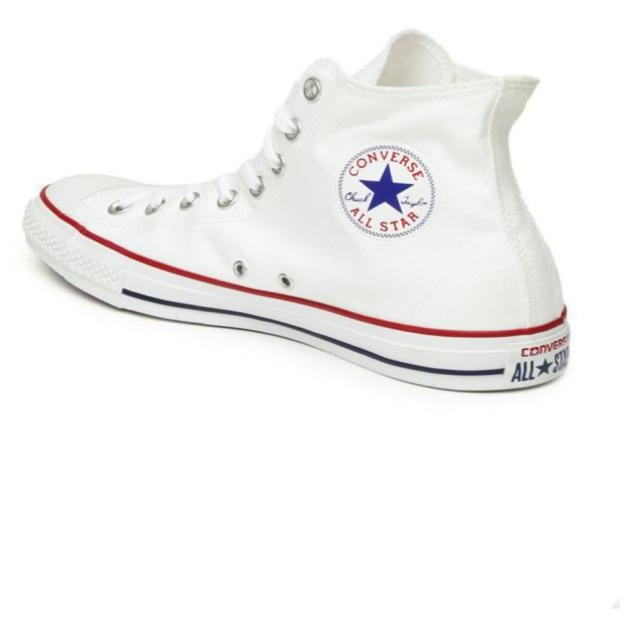boot: (19, 26, 589, 399)
